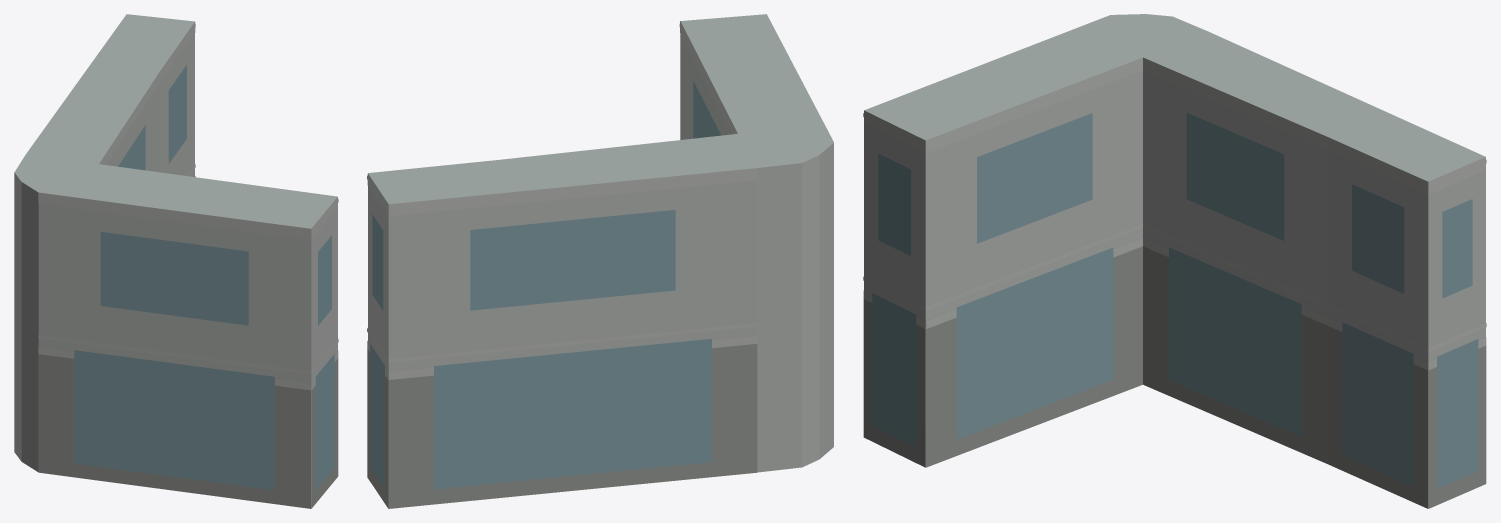
Rendered from survey-upis-32833378.glb.
The picture shows the model from 3 angles, left to right: view 1: azimuth 30°, elevation 25°; view 2: azimuth 150°, elevation 25°; view 3: azimuth 270°, elevation 25°; orthographic projection. The views are drawn at different scales.
Visible parts, largest first — view 1: survey-upis-32833378.tmp; view 2: survey-upis-32833378.tmp; view 3: survey-upis-32833378.tmp.
Part boxes in pixels (x1,y1,x2,y2): survey-upis-32833378.tmp: [14, 14, 338, 508]; survey-upis-32833378.tmp: [367, 14, 833, 508]; survey-upis-32833378.tmp: [863, 14, 1486, 508].
Bounding box in the file's own units: 6.72 × 6.1 × 10.53.
